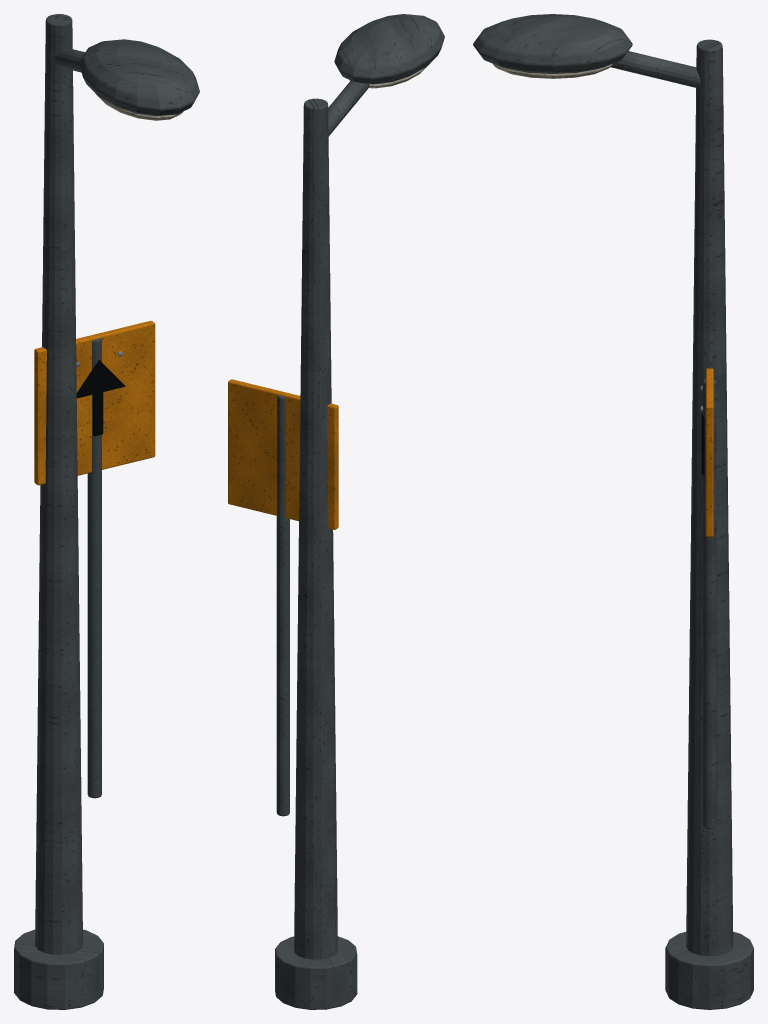
The model's file is PROP-6E3ED951E87E_lod0.glb.
3 views of the same model, side by side, from view 1: azimuth 30°, elevation 25°; view 2: azimuth 150°, elevation 25°; view 3: azimuth 270°, elevation 25° (orthographic). The views are drawn at different scales.
Parts seen in each view (by area): view 1: pole, sign_plate, lamp_head, pole_base, sign_post, direction_symbol, lamp_arm, symbol_stem; view 2: pole, sign_plate, lamp_head, sign_post, pole_base, lamp_arm; view 3: pole, lamp_head, sign_post, pole_base, lamp_arm, sign_plate.
Part boxes in pixels (x1,y1,x2,y2): pole: (35,14,82,954); sign_plate: (34,320,155,485); lamp_head: (79,39,199,116); pole_base: (14,929,103,1009); sign_post: (87,338,101,798); direction_symbol: (76,359,125,398); lamp_arm: (54,48,84,72); symbol_stem: (93,392,103,436); pole: (294,98,337,959); sign_plate: (228,379,338,529); lamp_head: (334,14,444,84); sign_post: (276,395,289,816); pole_base: (275,936,357,1009); lamp_arm: (328,81,369,136); pole: (686,39,733,956); lamp_head: (473,14,632,73); sign_post: (702,378,716,828); pole_base: (665,931,753,1009); lamp_arm: (610,51,700,87); sign_plate: (705,368,713,536).
Size of the model in its own units: 0.7783 by 5.32 by 1.4.
5 materials, 5 textured.
